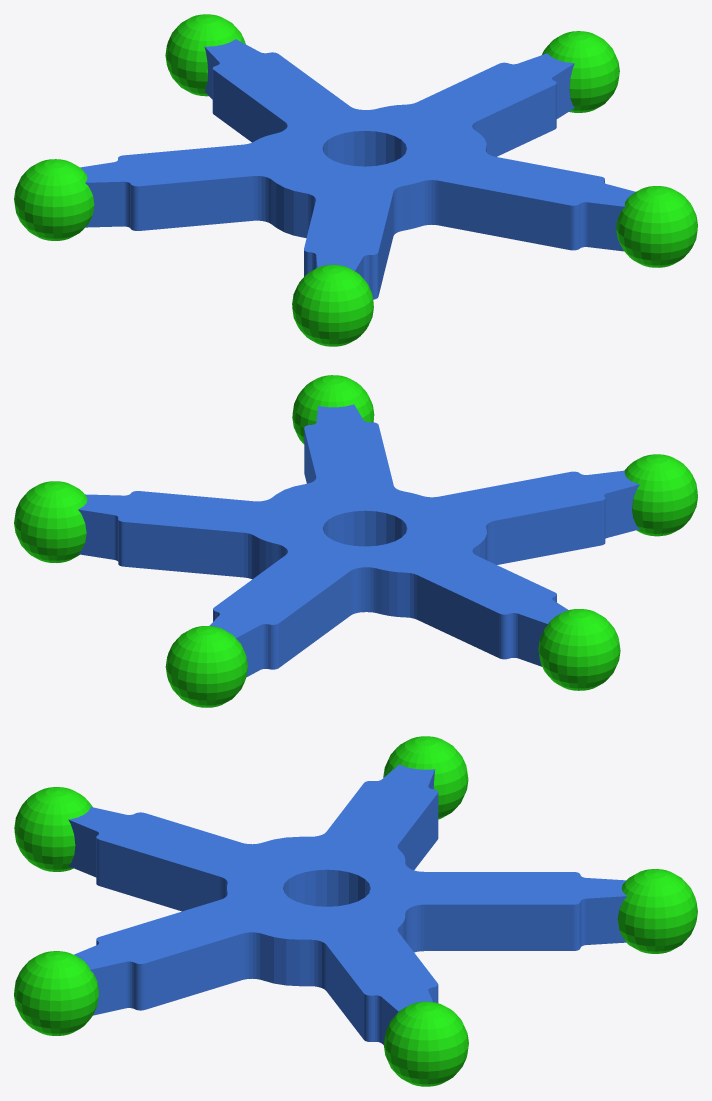
File: star5u.fbx
The picture shows the model from 3 angles, top to bottom: view 1: azimuth 30°, elevation 25°; view 2: azimuth 150°, elevation 25°; view 3: azimuth 270°, elevation 25°; orthographic projection. The views are drawn at different scales.
Visible parts, largest first — view 1: star_5_u, c3, c2, c4, c1, c0; view 2: star_5_u, c4, c0, c1, c3, c2; view 3: star_5_u, c2, c1, c0, c3, c4.
Boxes of the visible parts, left/top/right/bottom form: star_5_u: left=80, top=39, right=635, bottom=299; c3: left=292, top=264, right=373, bottom=346; c2: left=616, top=186, right=697, bottom=267; c4: left=14, top=159, right=94, bottom=240; c1: left=542, top=31, right=619, bottom=112; c0: left=165, top=14, right=245, bottom=96; star_5_u: left=78, top=404, right=639, bottom=677; c4: left=538, top=609, right=620, bottom=690; c0: left=165, top=626, right=247, bottom=707; c1: left=14, top=481, right=87, bottom=562; c3: left=624, top=454, right=697, bottom=536; c2: left=292, top=375, right=374, bottom=444; star_5_u: left=68, top=764, right=626, bottom=1044; c2: left=14, top=951, right=98, bottom=1035; c1: left=383, top=1001, right=468, bottom=1086; c0: left=617, top=869, right=697, bottom=953; c3: left=14, top=787, right=92, bottom=871; c4: left=383, top=736, right=468, bottom=819.
Size of the model in its own units: 41.75 by 5 by 40.03.
